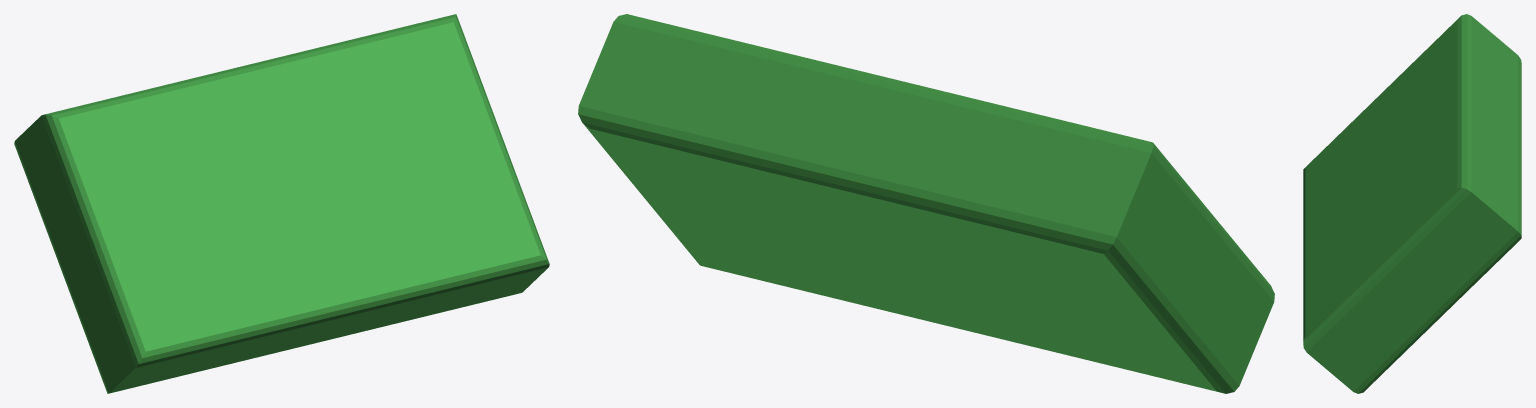
The picture shows the model from 3 angles, left to right: view 1: azimuth 30°, elevation 25°; view 2: azimuth 150°, elevation 25°; view 3: azimuth 270°, elevation 25°; orthographic projection. The views are drawn at different scales.
Size of the model in its own units: 1.57 by 0.851 by 0.8227.
